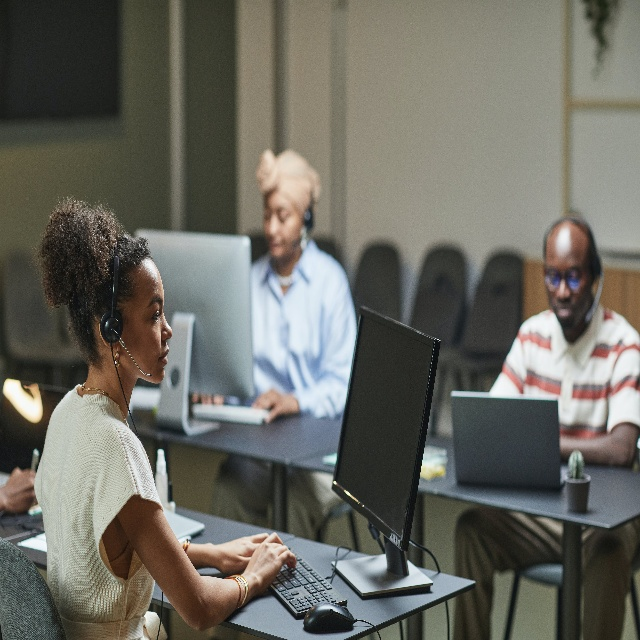Gafas: (544, 265, 586, 294)
Sin_guantes: (244, 532, 297, 596), (215, 531, 268, 576), (253, 388, 298, 423), (5, 466, 37, 514)
